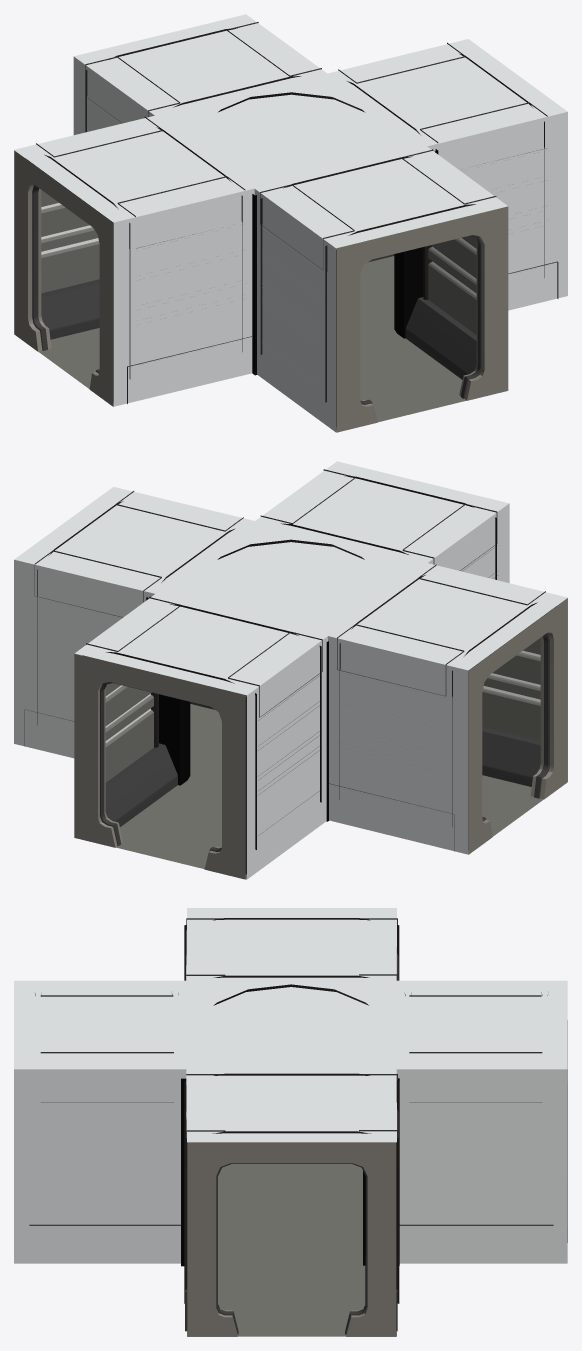
Rendered from Corridor_4Way.fbx.
3 views of the same model, one above another, from view 1: azimuth 30°, elevation 25°; view 2: azimuth 150°, elevation 25°; view 3: azimuth 270°, elevation 25° (orthographic). The views are drawn at different scales.
Parts seen in each view (by area): view 1: Corridor_4Way, Corridor_4WayLights; view 2: Corridor_4Way, Corridor_4WayLights; view 3: Corridor_4Way.
Boxes of the visible parts, x1,y1,x2,y2 form: Corridor_4Way: (14, 14, 567, 432); Corridor_4WayLights: (41, 203, 476, 295); Corridor_4Way: (14, 461, 567, 879); Corridor_4WayLights: (105, 650, 540, 742); Corridor_4Way: (14, 908, 567, 1336).
Bounding box in the file's own units: 70.1 × 27.83 × 70.13.
